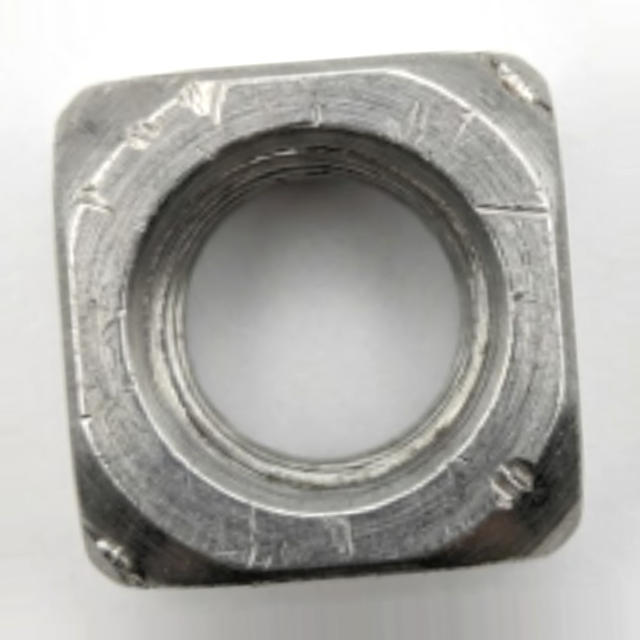defect: (86, 525, 155, 594), (454, 179, 547, 229), (234, 494, 286, 583), (486, 463, 556, 523), (482, 53, 551, 111), (177, 74, 230, 121), (111, 110, 156, 152), (68, 185, 121, 219), (334, 502, 361, 563), (398, 95, 428, 145), (298, 89, 333, 128)
